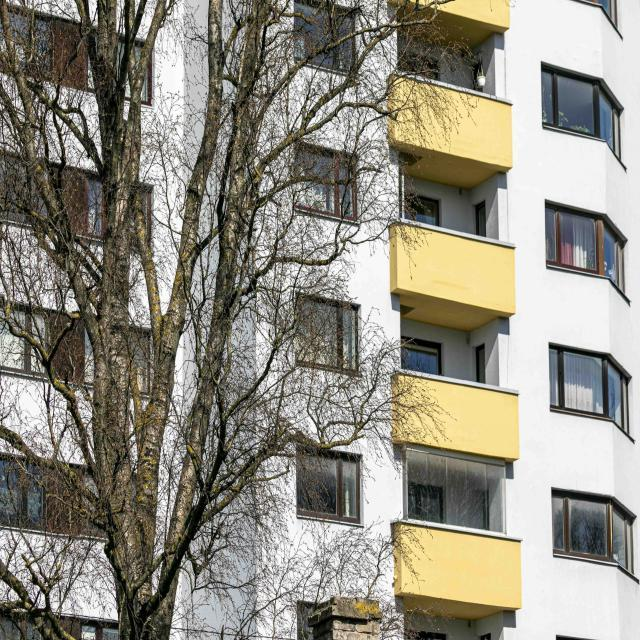Window: (542, 70, 616, 141), (550, 350, 625, 417), (548, 210, 614, 274), (302, 449, 358, 516), (91, 34, 147, 96), (296, 304, 354, 362), (296, 151, 352, 211), (296, 4, 351, 64), (1, 156, 51, 222), (4, 12, 51, 74), (88, 190, 144, 240), (1, 308, 42, 376), (4, 462, 46, 518), (7, 616, 117, 636), (554, 492, 620, 522), (132, 331, 150, 387), (412, 488, 442, 520), (404, 348, 441, 372), (404, 56, 440, 77), (408, 202, 440, 224), (84, 330, 94, 380), (600, 1, 618, 28)
